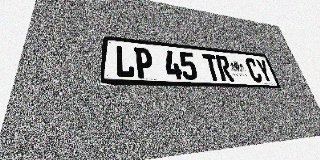4: (163, 50, 183, 80)
5: (179, 51, 198, 80)
C: (244, 58, 264, 82)
L: (115, 45, 135, 78)
P: (134, 47, 154, 79)
R: (215, 55, 234, 81)
T: (202, 54, 222, 81)
Y: (255, 59, 274, 83)
